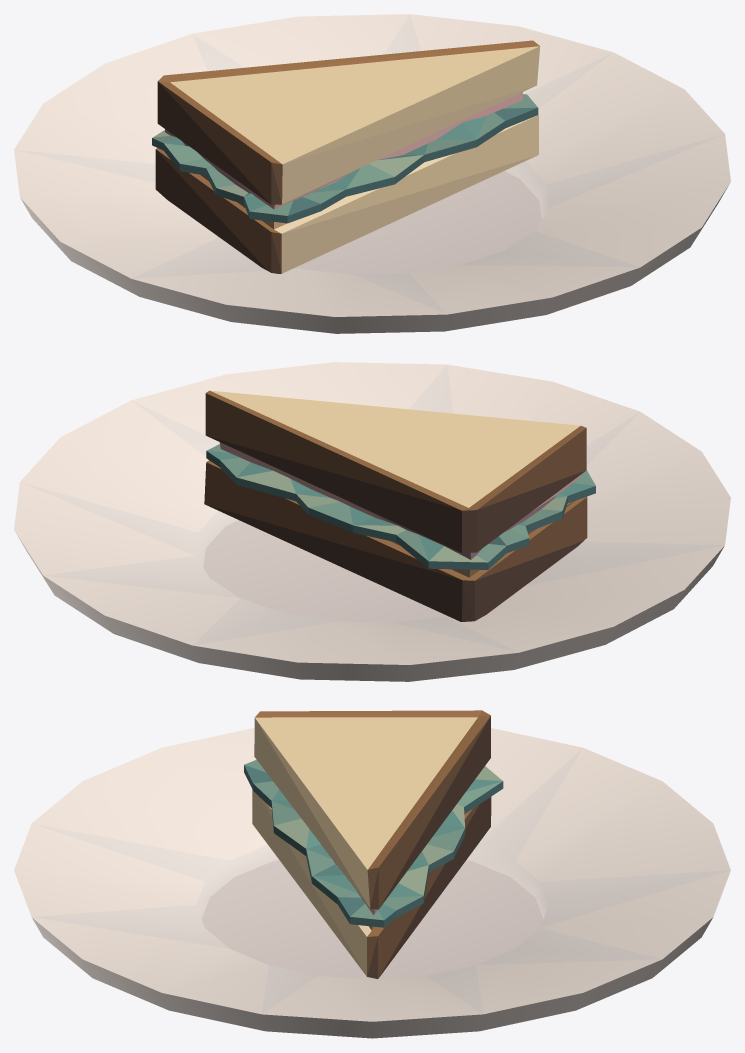
Rendered from sandwich_plate.fbx.
The picture shows the model from 3 angles, top to bottom: view 1: azimuth 30°, elevation 25°; view 2: azimuth 150°, elevation 25°; view 3: azimuth 270°, elevation 25°; orthographic projection.
Visible parts, largest first — view 1: sandwich; view 2: sandwich; view 3: sandwich.
Part boxes in pixels (<box>): sandwich: <box>14,14,730,333</box>; sandwich: <box>14,362,730,681</box>; sandwich: <box>14,710,730,1038</box>.
Size of the model in its own units: 23.35 by 5.73 by 23.35.
